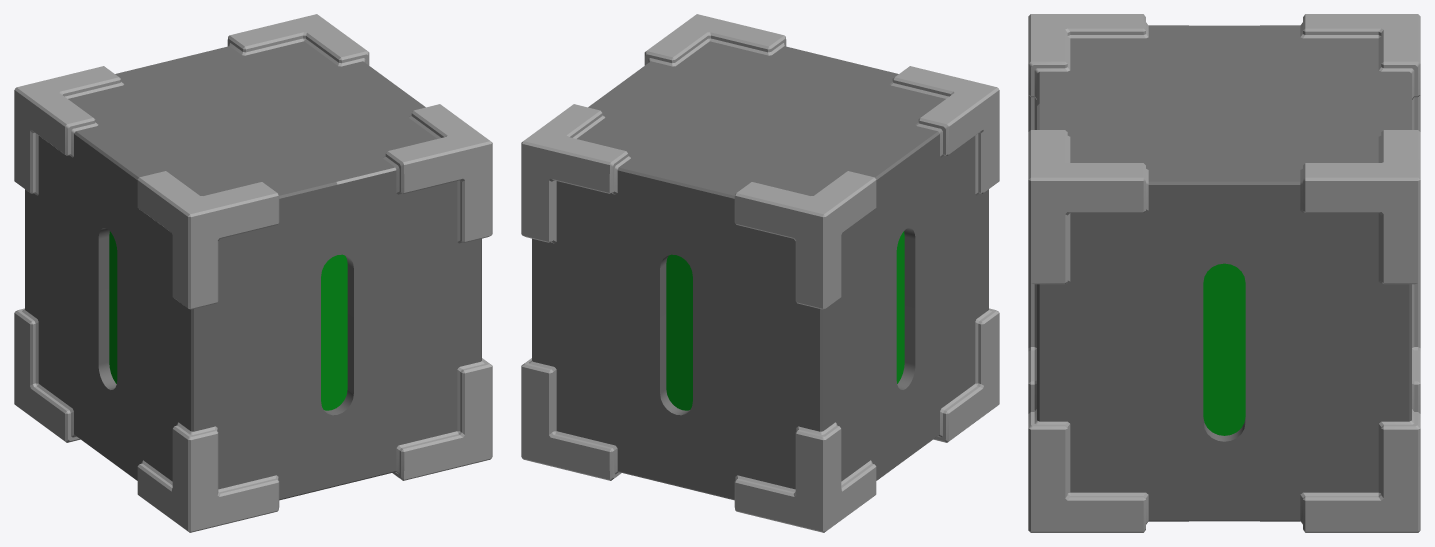
3 renders of one model, left to right at view 1: azimuth 30°, elevation 25°; view 2: azimuth 150°, elevation 25°; view 3: azimuth 270°, elevation 25°, orthographic. The views are drawn at different scales.
Visible parts, largest first — view 1: Geo_Cube_1; view 2: Geo_Cube_1; view 3: Geo_Cube_1.
Part boxes in pixels (x1,y1,x2,y2): Geo_Cube_1: [14, 14, 492, 532]; Geo_Cube_1: [521, 14, 999, 532]; Geo_Cube_1: [1028, 14, 1420, 532].
Bounding box in the file's own units: 50 × 50 × 50.
